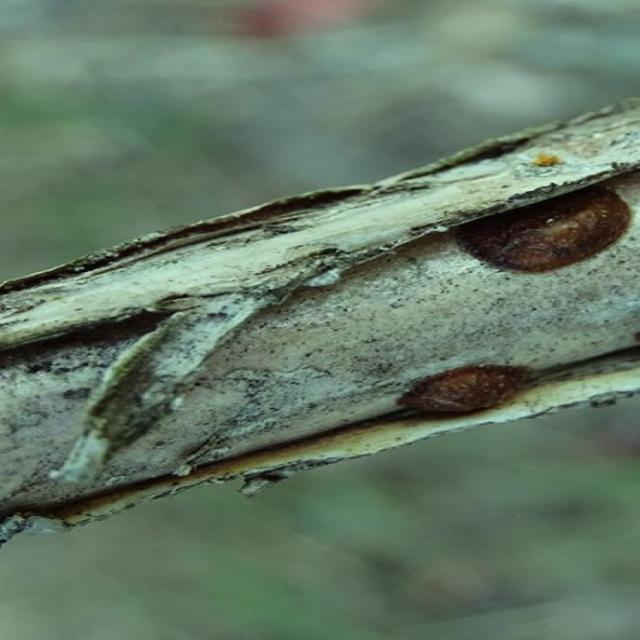BlackScale: (452, 173, 631, 272), (398, 365, 530, 411)
